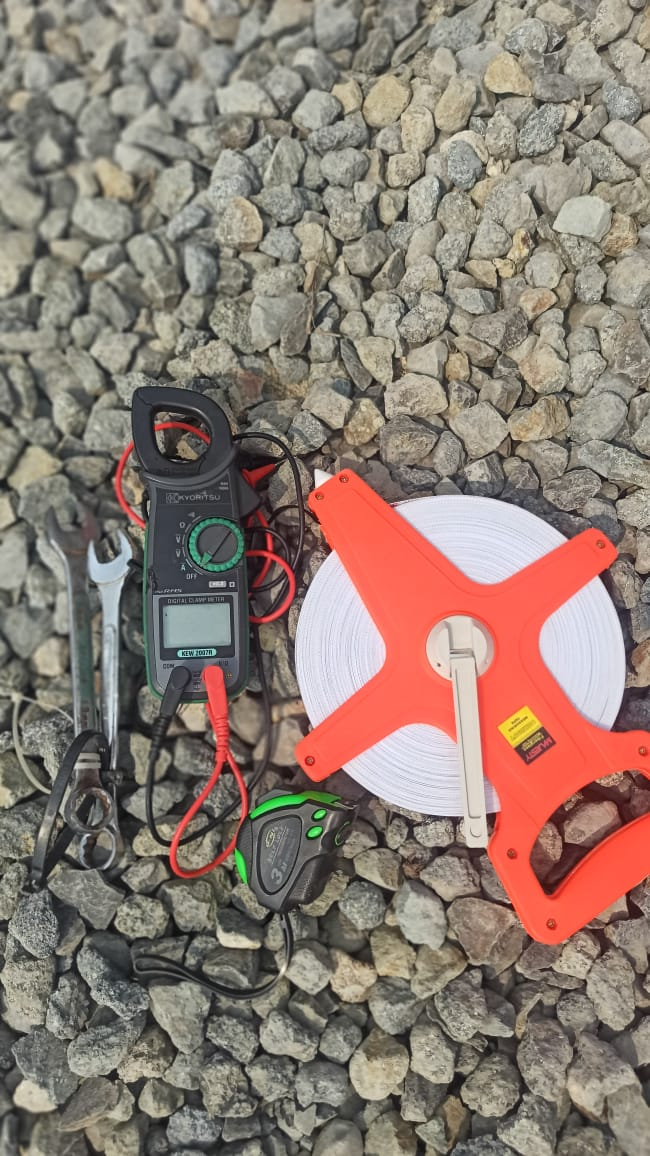TANG_AMPERE: (122, 384, 262, 702)
